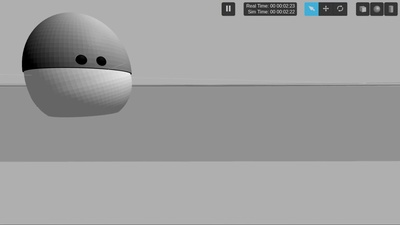mira_robot: (22, 12, 133, 117)
